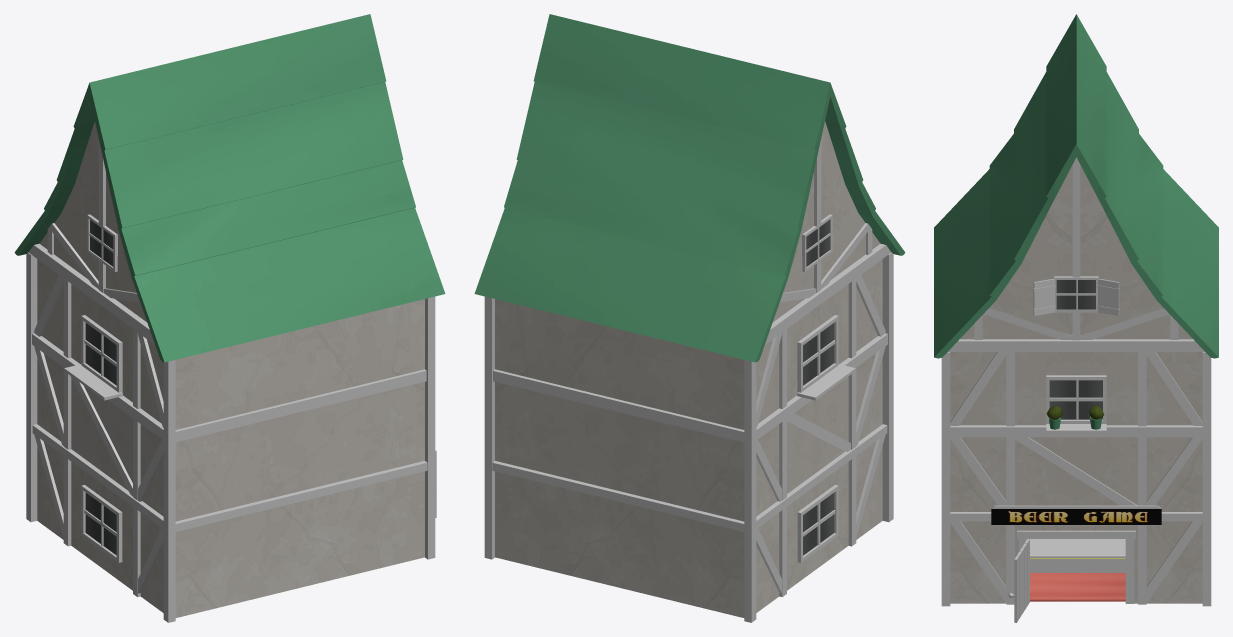
The model's file is BeerGame_Art.fbx.
The picture shows the model from 3 angles, left to right: view 1: azimuth 30°, elevation 25°; view 2: azimuth 150°, elevation 25°; view 3: azimuth 270°, elevation 25°; orthographic projection. The views are drawn at different scales.
Visible parts, largest first — view 1: Oktoberfest_BeerGame_Art; view 2: Oktoberfest_BeerGame_Art; view 3: Oktoberfest_BeerGame_Art.
Part boxes in pixels (x1,y1,x2,y2): Oktoberfest_BeerGame_Art: (14, 14, 445, 622); Oktoberfest_BeerGame_Art: (474, 14, 905, 622); Oktoberfest_BeerGame_Art: (934, 14, 1218, 622).
Size of what is drawn, in the model's own units: 1256 by 1837 by 1019.
